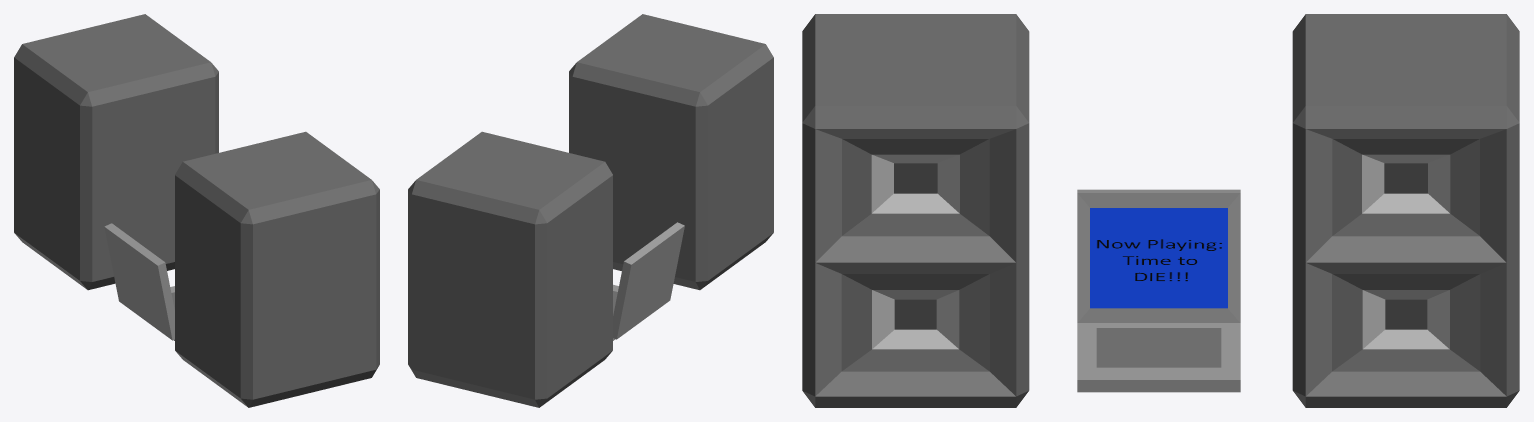
File: Soundbox_enemy2.fbx
3 views of the same model, side by side, from view 1: azimuth 30°, elevation 25°; view 2: azimuth 150°, elevation 25°; view 3: azimuth 270°, elevation 25° (orthographic). The views are drawn at different scales.
Parts seen in each view (by area): view 1: Soundbox 2, Soundbox 1, Laptop Screen; view 2: Soundbox 1, Soundbox 2, Laptop Screen; view 3: Soundbox 2, Soundbox 1, Laptop Screen, Keyboard.
Boxes of the visible parts, <box> form: Soundbox 2: <box>175,131,379,407</box>; Soundbox 1: <box>14,14,218,290</box>; Laptop Screen: <box>104,223,174,340</box>; Soundbox 1: <box>408,131,612,407</box>; Soundbox 2: <box>569,14,773,290</box>; Laptop Screen: <box>613,222,684,339</box>; Soundbox 2: <box>802,14,1029,407</box>; Soundbox 1: <box>1292,14,1519,407</box>; Laptop Screen: <box>1077,189,1240,322</box>; Keyboard: <box>1077,323,1240,392</box>.
Size of the model in its own units: 200 by 278 by 585.
Materials: 8 (1 with a texture image).
